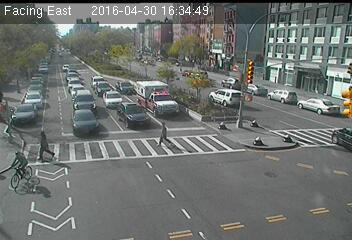neg: (2, 150, 34, 193), (151, 182, 176, 215), (278, 195, 300, 225), (322, 200, 344, 228), (85, 179, 106, 208), (10, 95, 30, 123), (310, 66, 330, 93), (208, 75, 226, 99), (119, 66, 137, 90), (200, 165, 217, 188), (244, 13, 260, 35), (304, 19, 318, 39), (12, 54, 26, 73), (41, 30, 54, 47), (251, 130, 263, 146), (73, 25, 84, 40), (60, 61, 71, 75), (104, 44, 115, 58), (286, 131, 296, 144), (113, 17, 123, 30), (38, 61, 48, 74), (127, 43, 136, 55), (186, 54, 195, 65)
pos: (33, 128, 57, 161), (154, 120, 174, 147)
